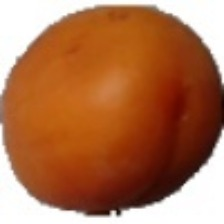apricot: (44, 0, 209, 192)
